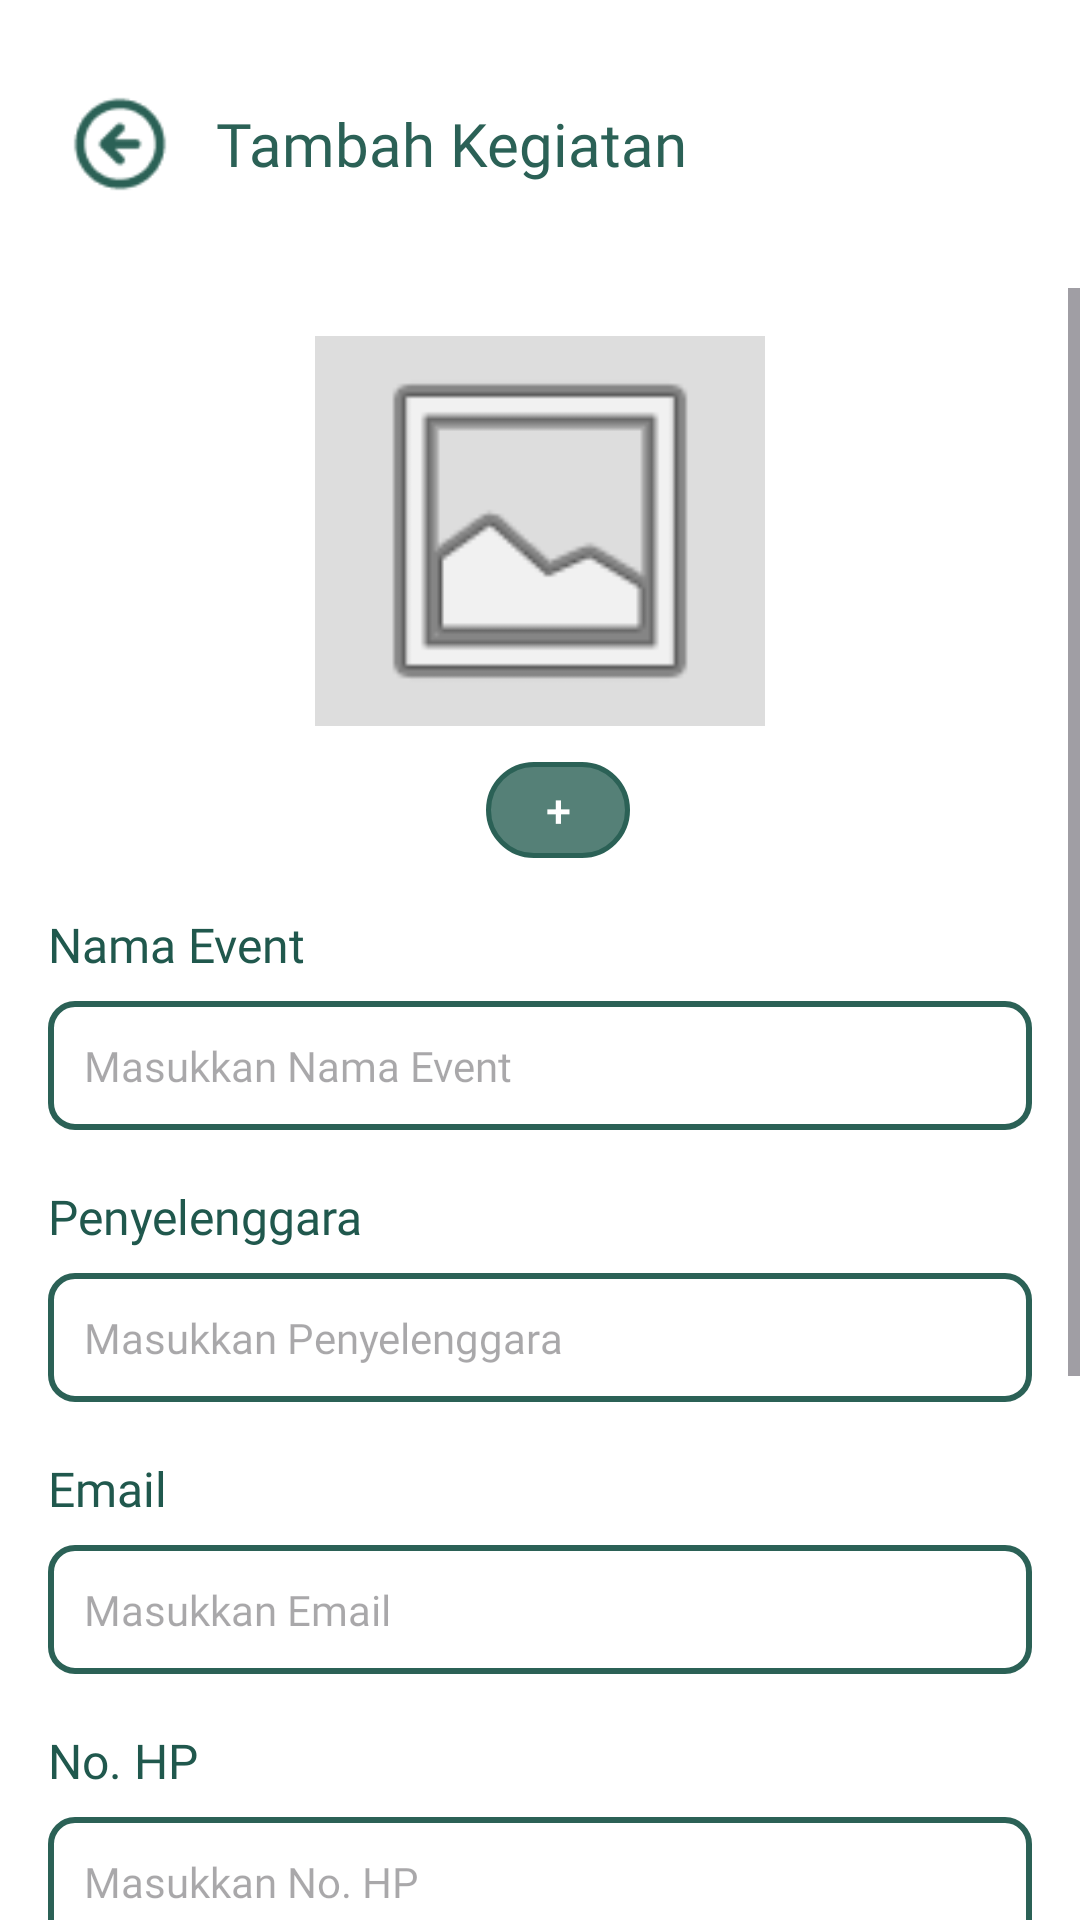

Locate icon controls on the screen. Image size 1080*1920, boxes as [left=x1, top=y1, right=x2, bottom=y2].
back: [left=74, top=98, right=166, bottom=190]
